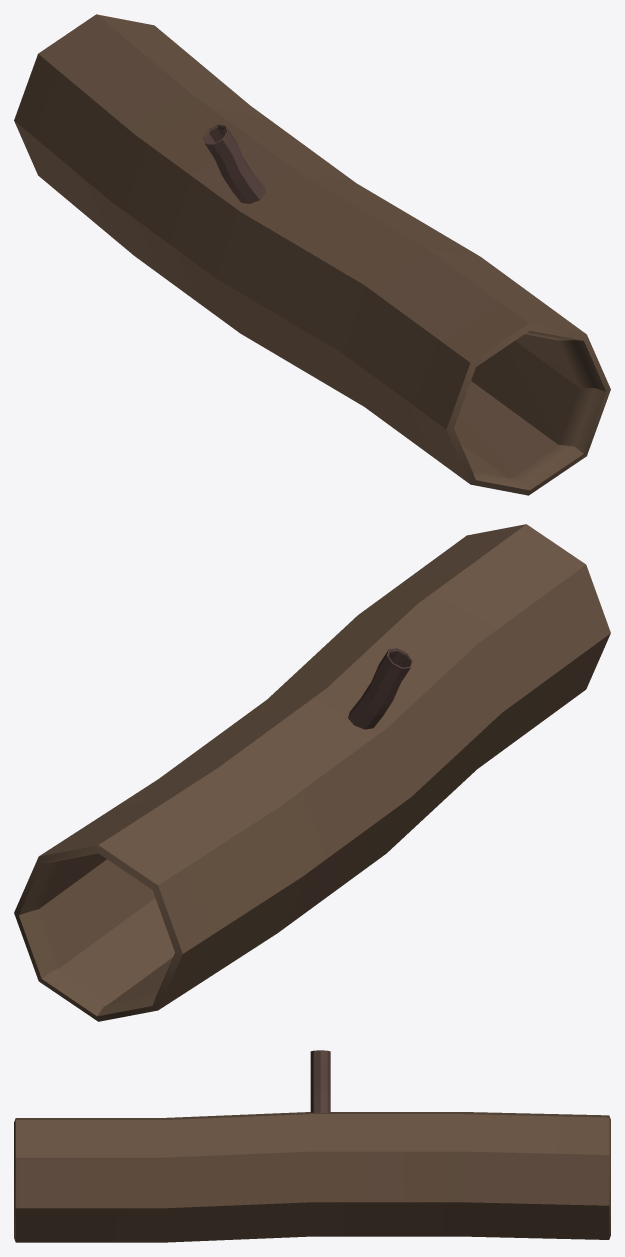
Rendered from BOIS-TROU-2-MAYA.fbx.
3 views of the same model, one above another, from view 1: azimuth 30°, elevation 25°; view 2: azimuth 150°, elevation 25°; view 3: azimuth 270°, elevation 25° (orthographic). The views are drawn at different scales.
Visible parts, largest first — view 1: Dead_trunk_001; view 2: Dead_trunk_001; view 3: Dead_trunk_001.
Part boxes in pixels (x1,y1,x2,y2): Dead_trunk_001: (14,14,610,495); Dead_trunk_001: (14,524,610,1021); Dead_trunk_001: (14,1050,610,1242).
Size of the model in its own units: 2.28 by 2.68 by 9.
